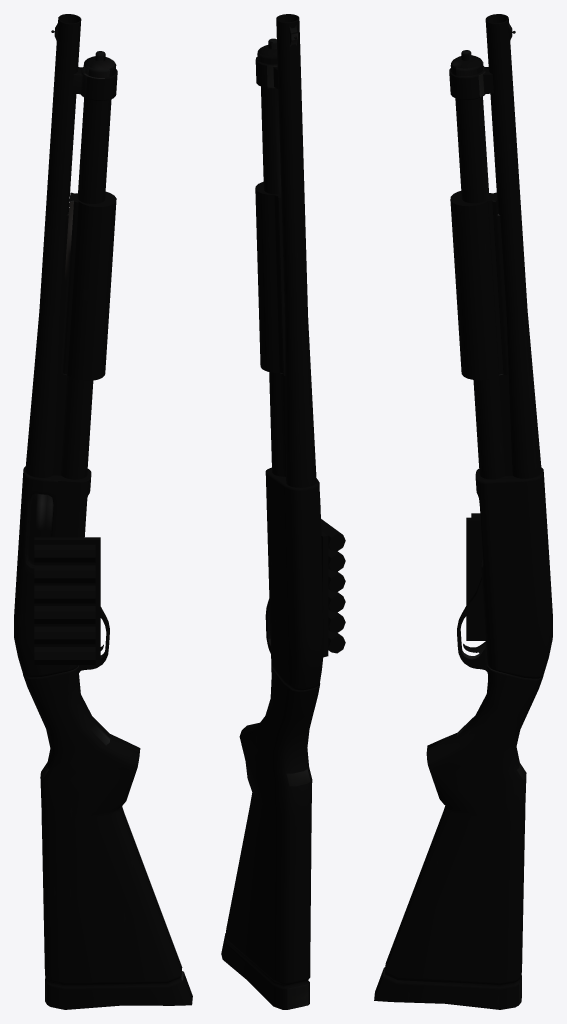
File: Rem870__Mount_ScopeBase__Sidesaddle_Shotgun.fbx
3 renders of one model, left to right at view 1: azimuth 90°, elevation 25°; view 2: azimuth 210°, elevation 25°; view 3: azimuth 270°, elevation 25°, orthographic.
Parts seen in each view (by area): view 1: asset_Rem870.001; view 2: asset_Rem870.001; view 3: asset_Rem870.001.
Part boxes in pixels (x1,y1,x2,y2): asset_Rem870.001: (14, 14, 192, 1009); asset_Rem870.001: (221, 14, 345, 1009); asset_Rem870.001: (374, 14, 552, 1009).
Size of the model in its own units: 0.0389 by 0.636 by 0.1048.
